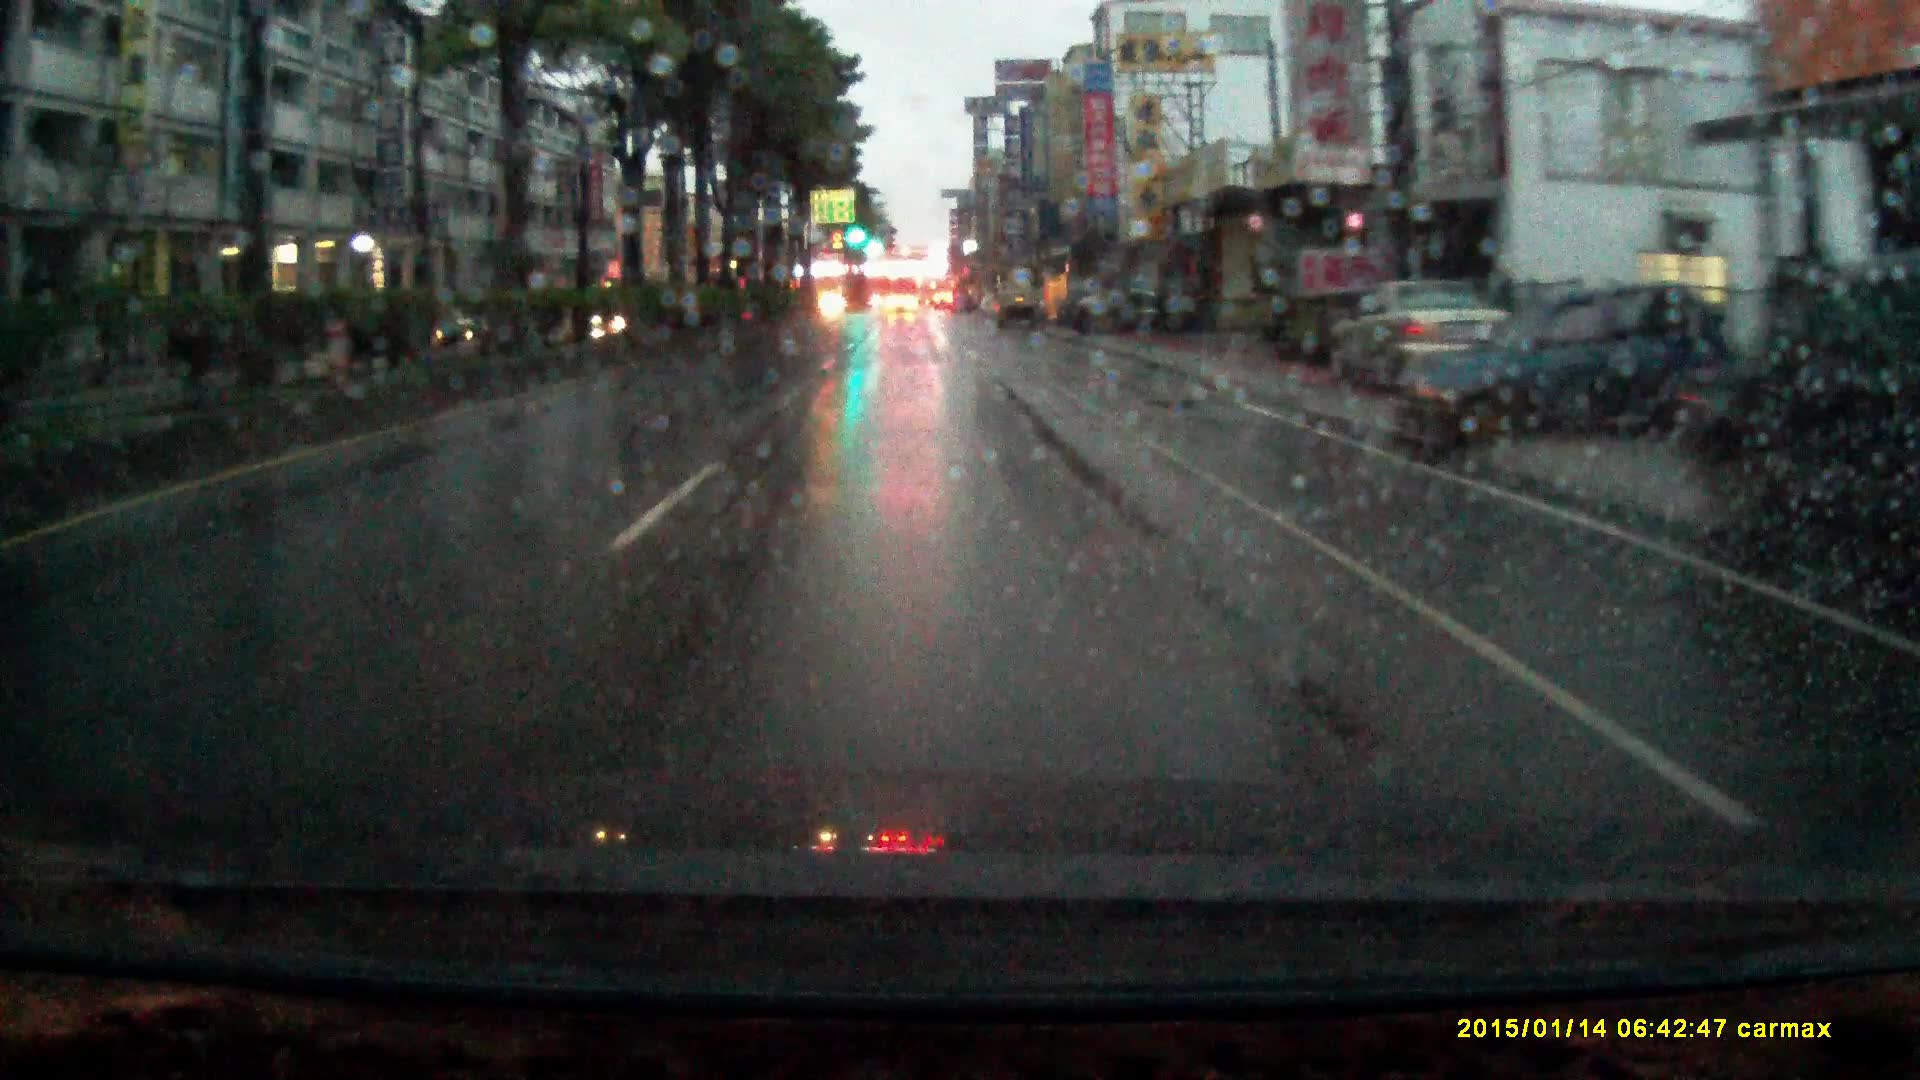vehicle: (1396, 286, 1779, 455), (1315, 284, 1518, 394), (1056, 291, 1209, 338), (993, 286, 1042, 334), (886, 297, 919, 320)
